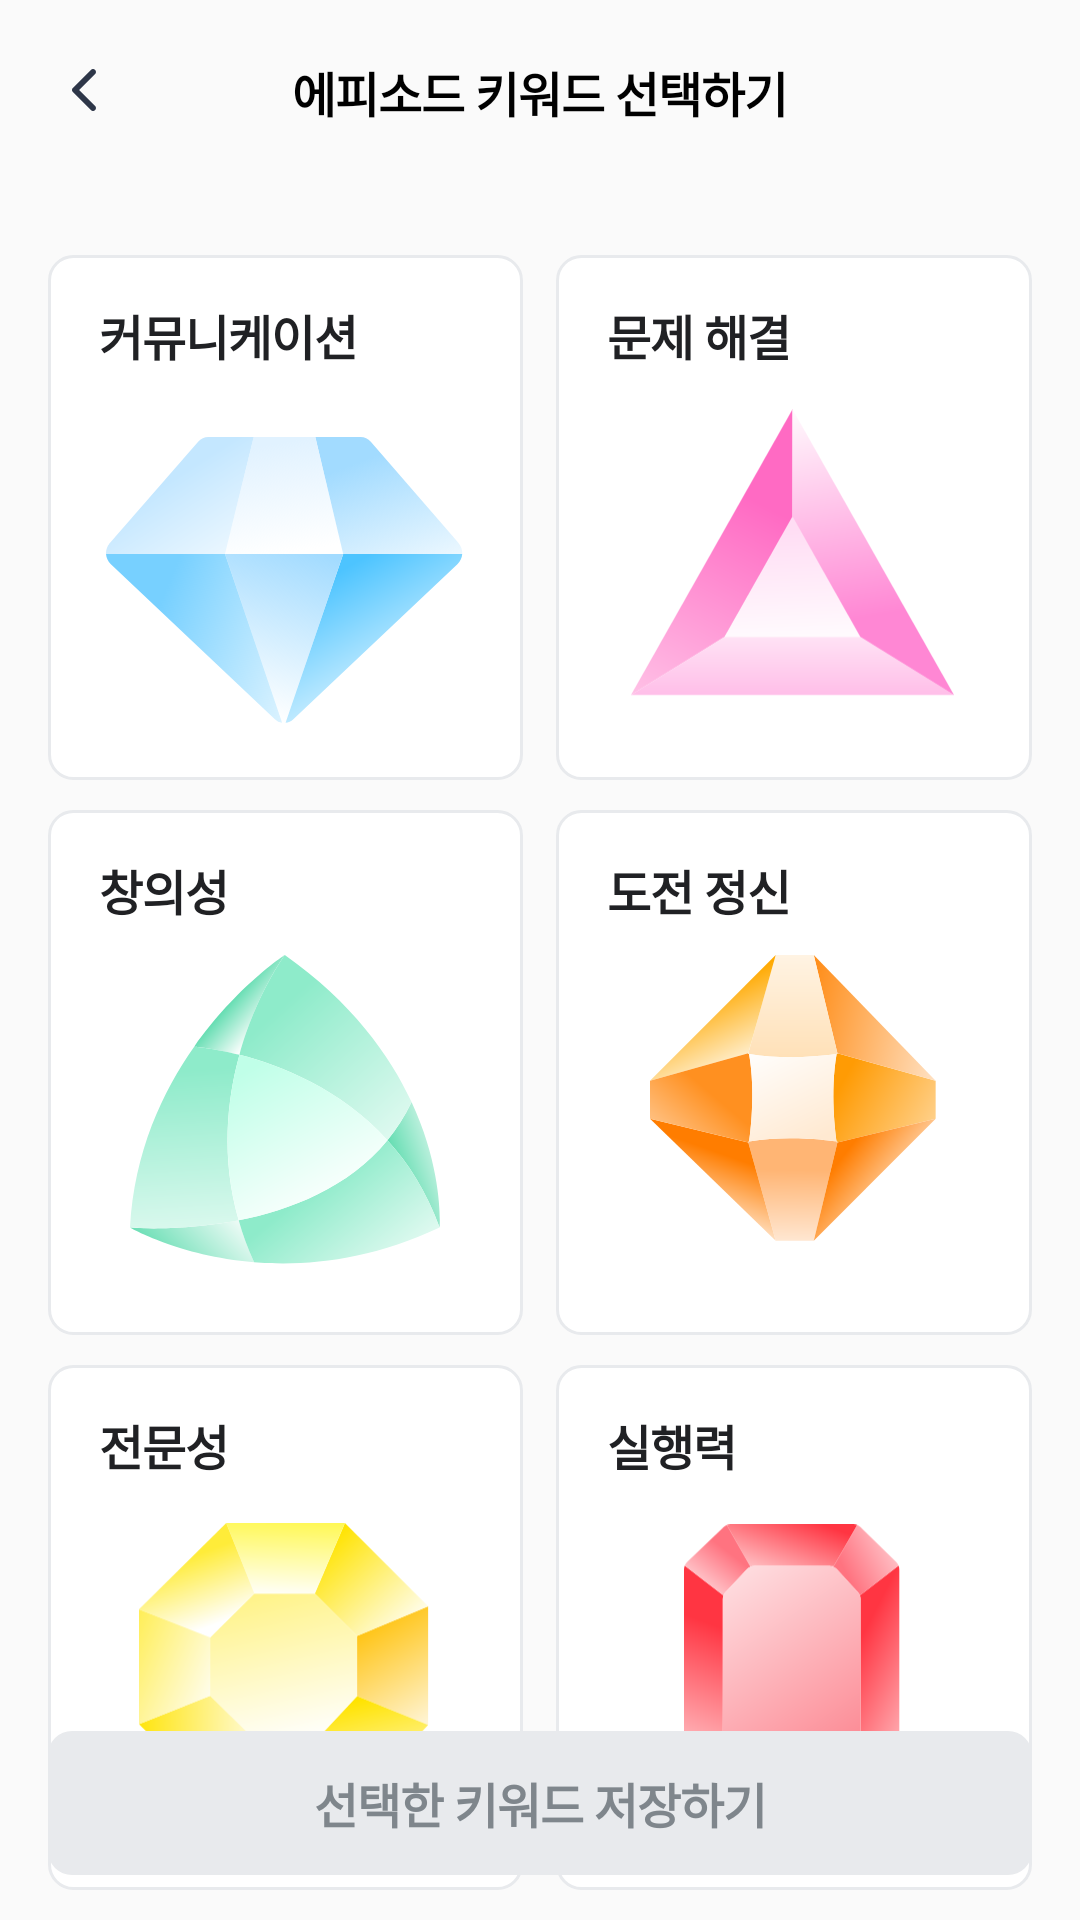

Icon bounding boxes for this 1080px x 1920px phone screenshot, format (x1, y1, x2, y2):
arrow: (72, 69, 96, 111)
